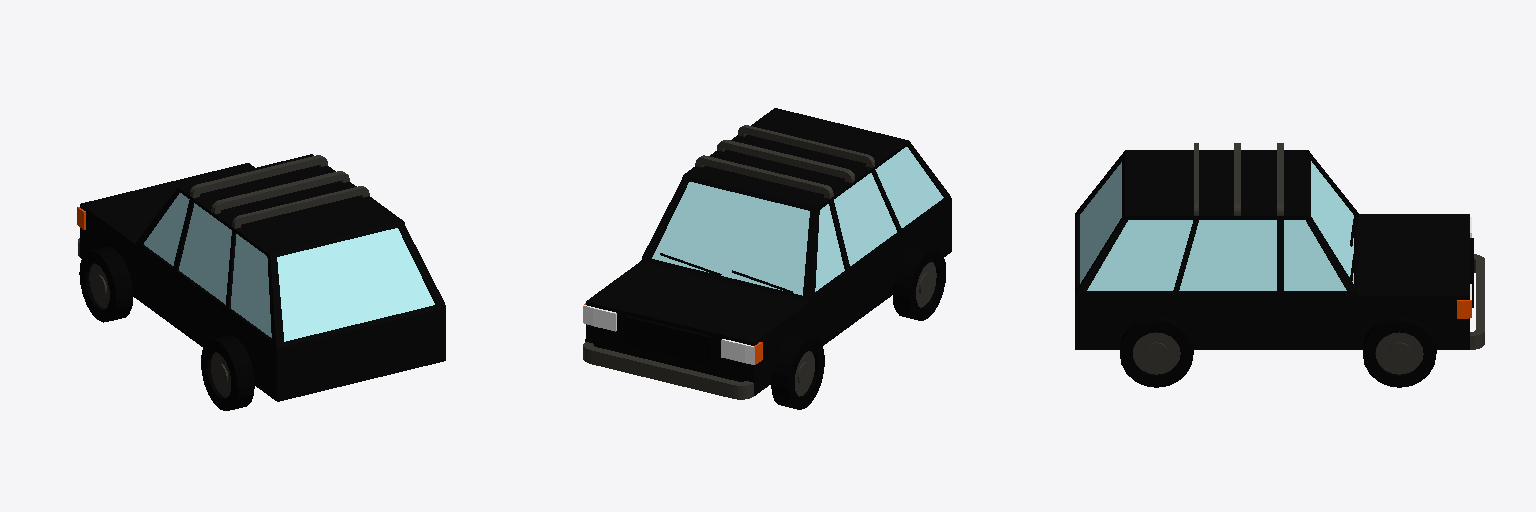
File: Roofracks_Black.obj
3 views of the same model, side by side, from view 1: azimuth 30°, elevation 25°; view 2: azimuth 150°, elevation 25°; view 3: azimuth 270°, elevation 25° (orthographic).
Visible parts, largest first — view 1: Roofracks_Black; view 2: Roofracks_Black; view 3: Roofracks_Black.
Boxes of the visible parts, <box> form: Roofracks_Black: <box>77,154,445,410</box>; Roofracks_Black: <box>583,108,951,409</box>; Roofracks_Black: <box>1075,143,1484,387</box>.
Bounding box in the file's own units: 172 × 140 × 311.